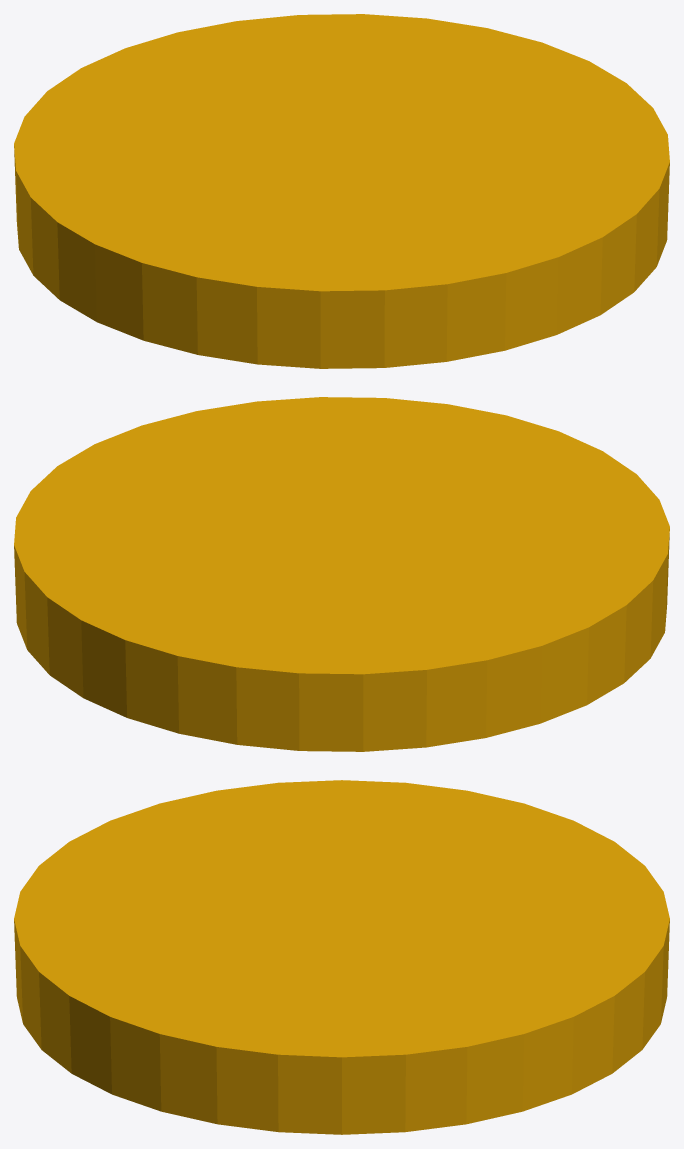
File: meat.fbx
The picture shows the model from 3 angles, top to bottom: view 1: azimuth 30°, elevation 25°; view 2: azimuth 150°, elevation 25°; view 3: azimuth 270°, elevation 25°; orthographic projection.
Parts seen in each view (by area): view 1: Meat; view 2: Meat; view 3: Meat.
Boxes of the visible parts, <box> form: Meat: <box>14,14,669,368</box>; Meat: <box>14,397,669,751</box>; Meat: <box>14,780,669,1134</box>.
Bounding box in the file's own units: 86.22 × 11.41 × 86.22.
